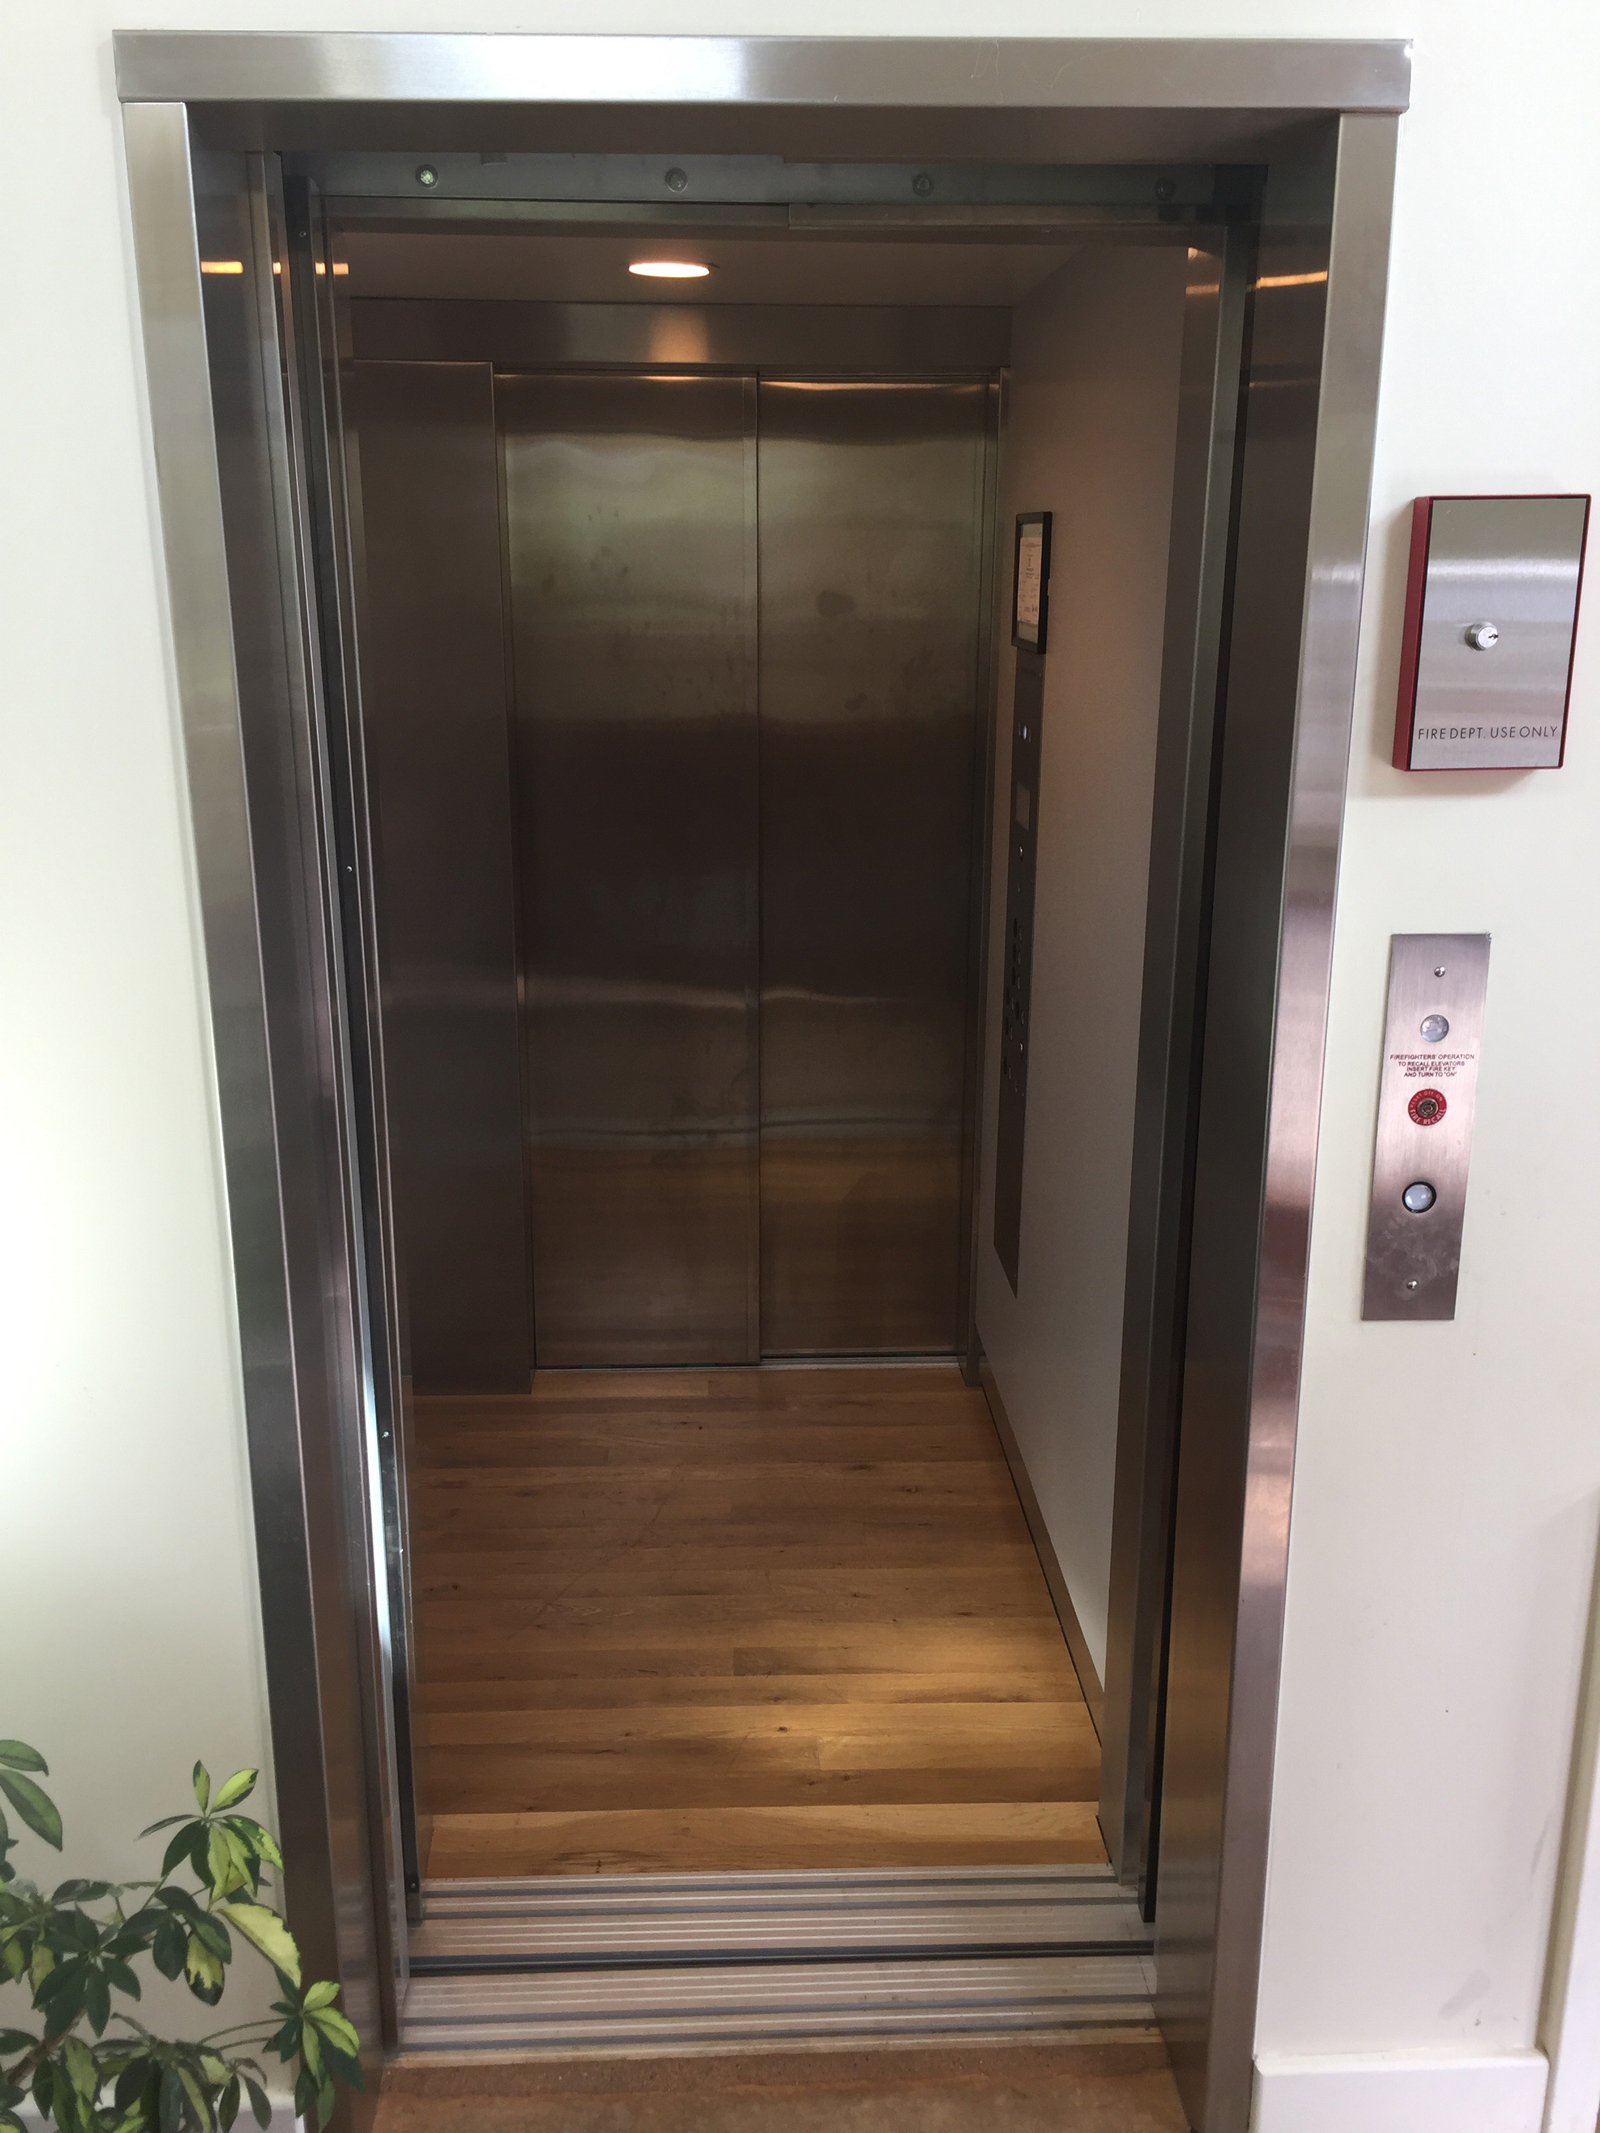elevator_panel: (1375, 935, 1482, 1328)
